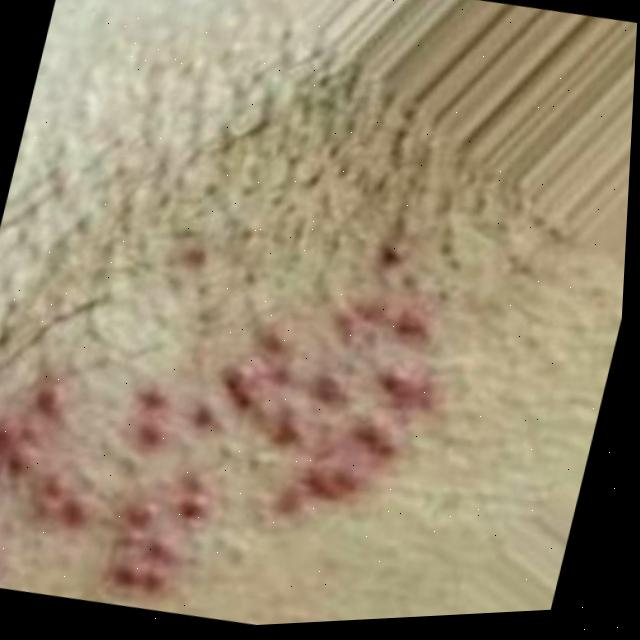Shingles: (0, 192, 471, 640)
